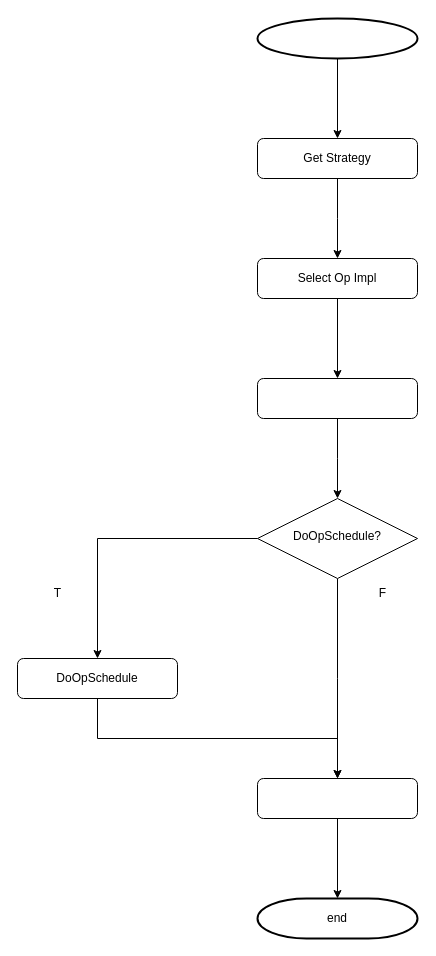
This 436x956 diagram has some shape labels left out. The shapes that lost their labels are listed below. From the top down, each one's centre as x and y in pixels, then its label:
the point at 337,38: start
the point at 337,398: DoOpLower
the point at 337,798: Get func_bodies
